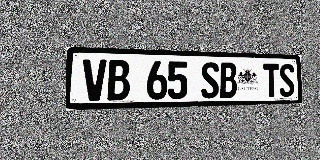5: (168, 61, 188, 99)
6: (147, 61, 167, 100)
B: (107, 60, 130, 101), (219, 62, 237, 98)
S: (201, 62, 219, 99), (279, 64, 295, 97)
T: (263, 63, 279, 97)
V: (83, 59, 107, 101)
